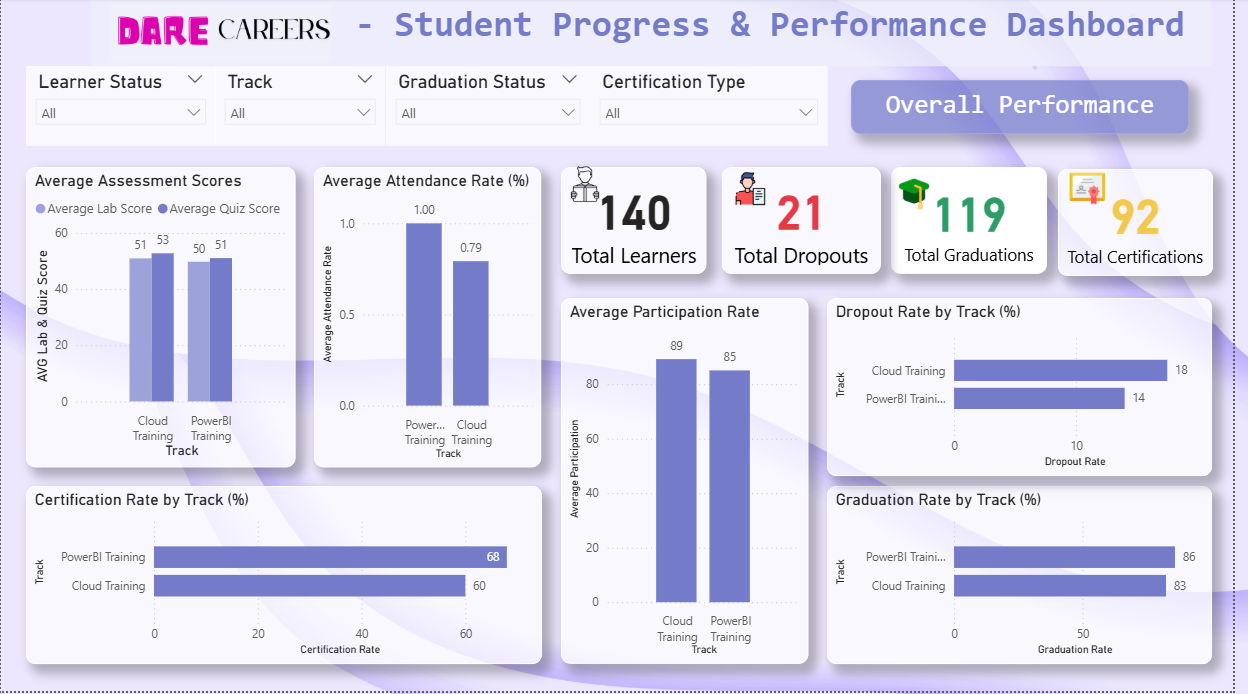

What the dashboard file says about the page in this screenshot:
{"tool":"powerbi","page":{"name":"Overall Performance","canvas":[1280,720],"ordinal":0},"visuals":[{"type":"slicer","fields":{"Values":["Students.Track"]},"box":[222.6,71.2,177.2,83.3],"z":0},{"type":"slicer","fields":{"Values":["All_Status.Certification Status"]},"box":[25.7,71.2,196.8,83.3],"z":1000},{"type":"slicer","fields":{"Values":["All_Status.Graduation Status"]},"box":[399.8,71.2,212,83.3],"z":2000},{"type":"slicer","fields":{"Values":["Students.Certification Type"]},"box":[611.7,71.2,246.8,83.3],"z":3000},{"type":"card","fields":{"Values":["Measures_Table.Total Students"]},"box":[581.5,175.6,151.4,110.5],"z":4000},{"type":"card","fields":{"Values":["Measures_Table.Total Graduations"]},"box":[925.2,175.6,162,110.5],"z":5000},{"type":"card","fields":{"Values":["Measures_Table.Total Certifications"]},"box":[1097.8,177.2,160.5,110.5],"z":6000},{"type":"card","fields":{"Values":["Measures_Table.Total Dropouts"]},"box":[749.5,175.6,165,110.5],"z":7000},{"type":"clusteredBarChart","title":"Graduation Rate by Track (%)","fields":{"Category":["Students.Track"],"Y":["Measures_Table.Graduation Rate"]},"box":[858.6,507.3,399.8,184.7],"z":8000},{"type":"clusteredBarChart","title":"Certification Rate by Track (%)","fields":{"Category":["Students.Track"],"Y":["Measures_Table.Certification Rate"]},"box":[25.7,507.3,536,184.7],"z":9000},{"type":"clusteredBarChart","title":"Dropout Rate by Track (%)","fields":{"Category":["Students.Track"],"Y":["Measures_Table.Dropout Rate"]},"box":[858.6,311.9,399.8,184.7],"z":10000},{"type":"clusteredColumnChart","title":"Average Attendance Rate (%)","fields":{"Category":["Students.Track"],"Y":["Measures_Table.Average Attendance Rate"]},"box":[325.6,175.6,236.2,311.9],"z":11000},{"type":"clusteredColumnChart","title":"Average Assessment Scores","fields":{"Category":["Students.Track"],"Y":["Measures_Table.Average Lab Score","Measures_Table.Average Quiz Score"]},"box":[25.7,175.6,280.1,311.9],"z":12000},{"type":"clusteredColumnChart","title":"Average Participation Rate","fields":{"Category":["Students.Track"],"Y":["Measures_Table.Average Participation"]},"box":[581.5,311.9,257.4,380.1],"z":13000},{"type":"textbox","box":[93.9,0,1164.4,71.2],"z":14000},{"type":"textbox","box":[883.1,85.2,351.2,56.1],"z":15000},{"type":"image","box":[581.5,168.1,50,54.5],"z":16000},{"type":"image","box":[749.5,174.1,59.1,46.9],"z":17000},{"type":"image","box":[925.2,177.2,48.5,51.5],"z":18000},{"type":"image","box":[1097.8,174.1,60.6,46.9],"z":19000},{"type":"image","box":[108.6,0,239.6,71.1],"z":20000}]}

Visuals, with their boxes in screenshot pixels (x1, y1, x2, y2), scaled from the page's 1280x720 canvas onto the 1248x694 screenshot:
slicer - Students.Track: crop(217, 69, 390, 149)
slicer - All_Status.Certification Status: crop(25, 69, 217, 149)
slicer - All_Status.Graduation Status: crop(390, 69, 597, 149)
slicer - Students.Certification Type: crop(596, 69, 837, 149)
card - Measures_Table.Total Students: crop(567, 169, 715, 276)
card - Measures_Table.Total Graduations: crop(902, 169, 1060, 276)
card - Measures_Table.Total Certifications: crop(1070, 171, 1227, 277)
card - Measures_Table.Total Dropouts: crop(731, 169, 892, 276)
"Graduation Rate by Track (%)" clusteredBarChart: crop(837, 489, 1227, 667)
"Certification Rate by Track (%)" clusteredBarChart: crop(25, 489, 548, 667)
"Dropout Rate by Track (%)" clusteredBarChart: crop(837, 301, 1227, 479)
"Average Attendance Rate (%)" clusteredColumnChart: crop(317, 169, 548, 470)
"Average Assessment Scores" clusteredColumnChart: crop(25, 169, 298, 470)
"Average Participation Rate" clusteredColumnChart: crop(567, 301, 818, 667)
textbox: crop(92, 0, 1227, 69)
textbox: crop(861, 82, 1203, 136)
image: crop(567, 162, 616, 215)
image: crop(731, 168, 788, 213)
image: crop(902, 171, 949, 220)
image: crop(1070, 168, 1129, 213)
image: crop(106, 0, 339, 69)
